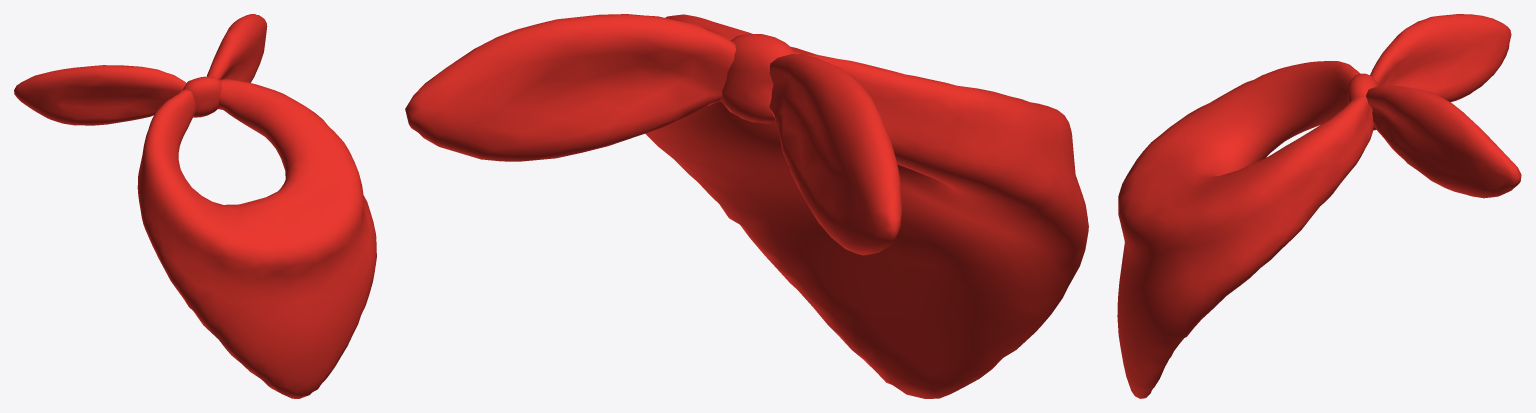
The model's file is red-scarf.glb.
3 views of the same model, side by side, from view 1: azimuth 30°, elevation 25°; view 2: azimuth 150°, elevation 25°; view 3: azimuth 270°, elevation 25° (orthographic). The views are drawn at different scales.
Parts seen in each view (by area): view 1: <SMD_root>; view 2: <SMD_root>; view 3: <SMD_root>.
Boxes of the visible parts, x1,y1,x2,y2 form: <SMD_root>: (14,14,376,398); <SMD_root>: (405,14,1088,398); <SMD_root>: (1117,14,1521,398).
Bounding box in the file's own units: 0.1312 × 0.1348 × 0.1488.
